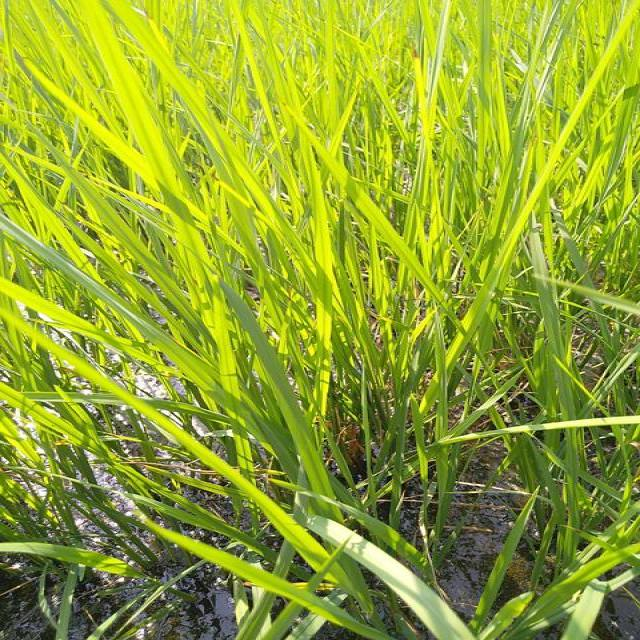Rice: (90, 9, 221, 276), (221, 273, 347, 518), (148, 520, 400, 640), (0, 281, 222, 404), (340, 167, 446, 312), (530, 226, 588, 471), (290, 46, 340, 274), (471, 490, 546, 624), (225, 144, 292, 274), (0, 540, 140, 579), (391, 420, 410, 522), (557, 474, 576, 567)
